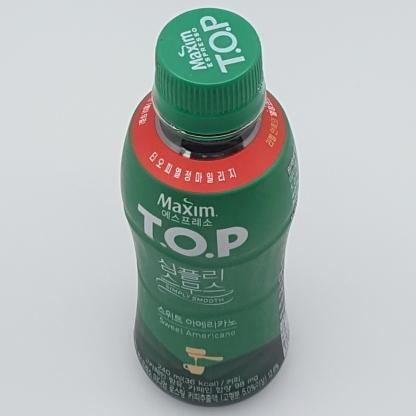--TOP--------------240ML: (120, 8, 299, 407)
